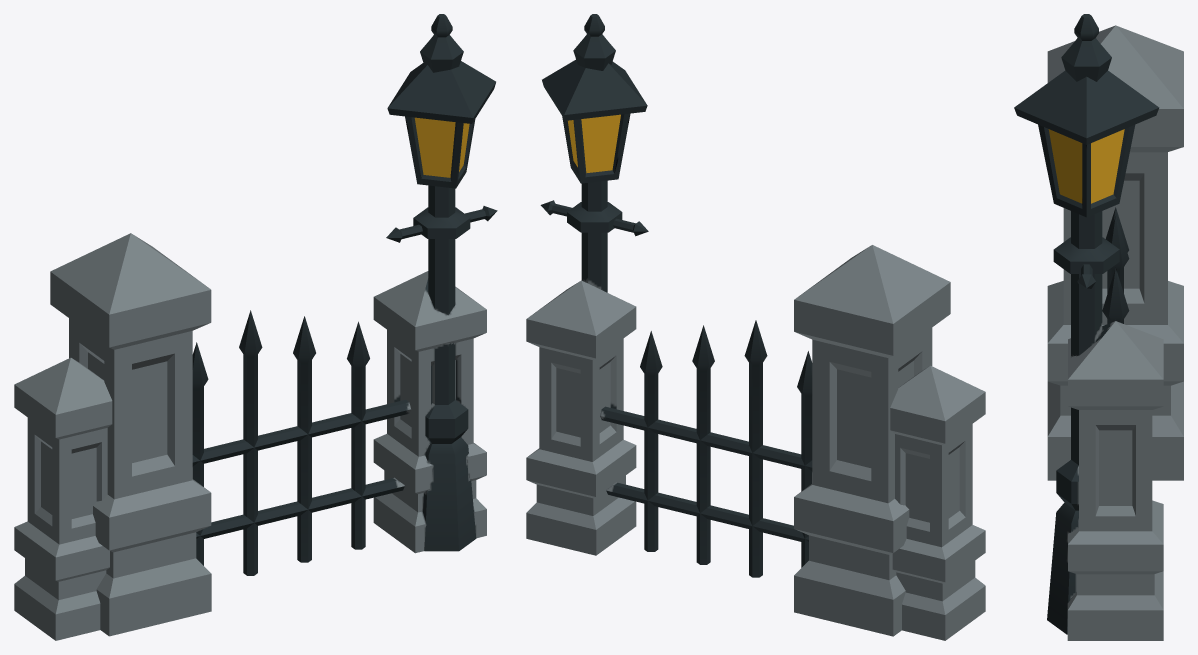
File: fence-lamp.glb
The picture shows the model from 3 angles, left to right: view 1: azimuth 30°, elevation 25°; view 2: azimuth 150°, elevation 25°; view 3: azimuth 270°, elevation 25°; orthographic projection. The views are drawn at different scales.
Visible parts, largest first — view 1: fenceSingle; view 2: fenceSingle; view 3: fenceSingle.
Part boxes in pixels (box(x1,y1,x2,y2)): fenceSingle: box(14, 14, 497, 640); fenceSingle: box(526, 14, 985, 640); fenceSingle: box(1014, 14, 1183, 640).
Bounding box in the file's own units: 2.07 × 2.3 × 0.585.
Materials: 1 (1 with a texture image).
